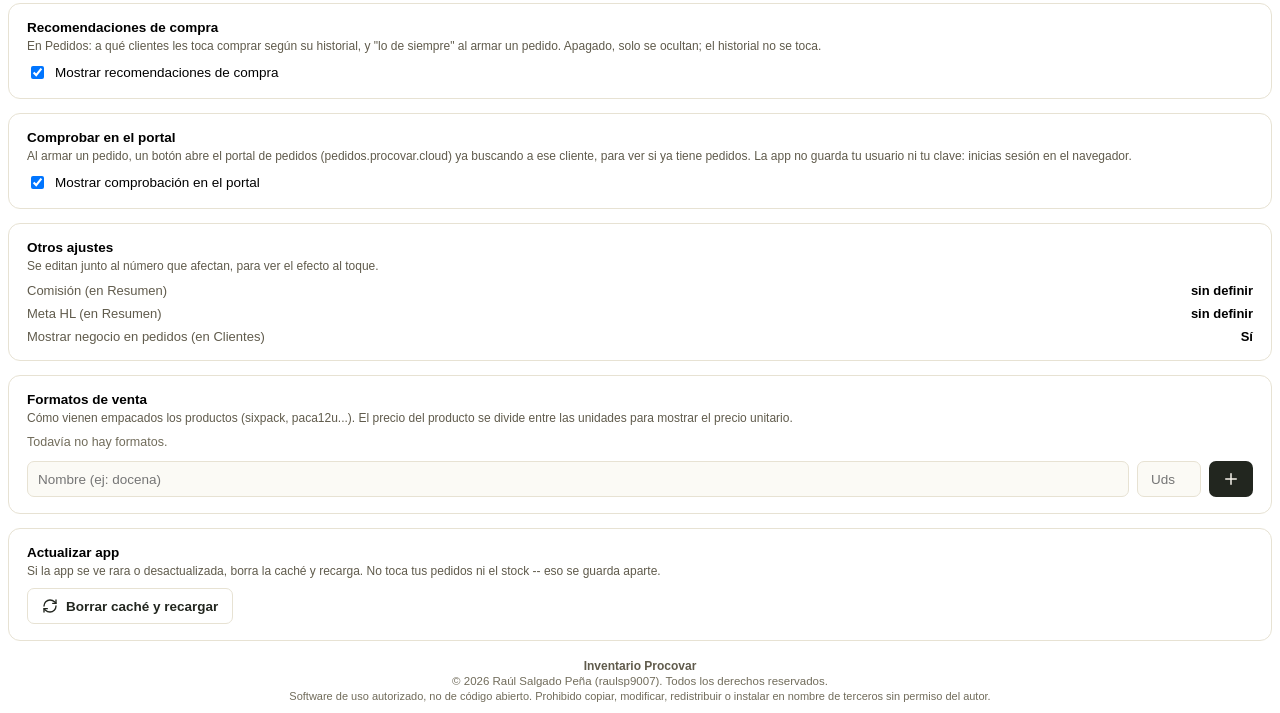
Test: Settings -- Borrar caché y recargar › el aviso de sin conexión desaparece si se reintenta ya con internet
(page scrolled)
Click the button "Borrar caché y recargar": (130, 606) [27,588,233,624]
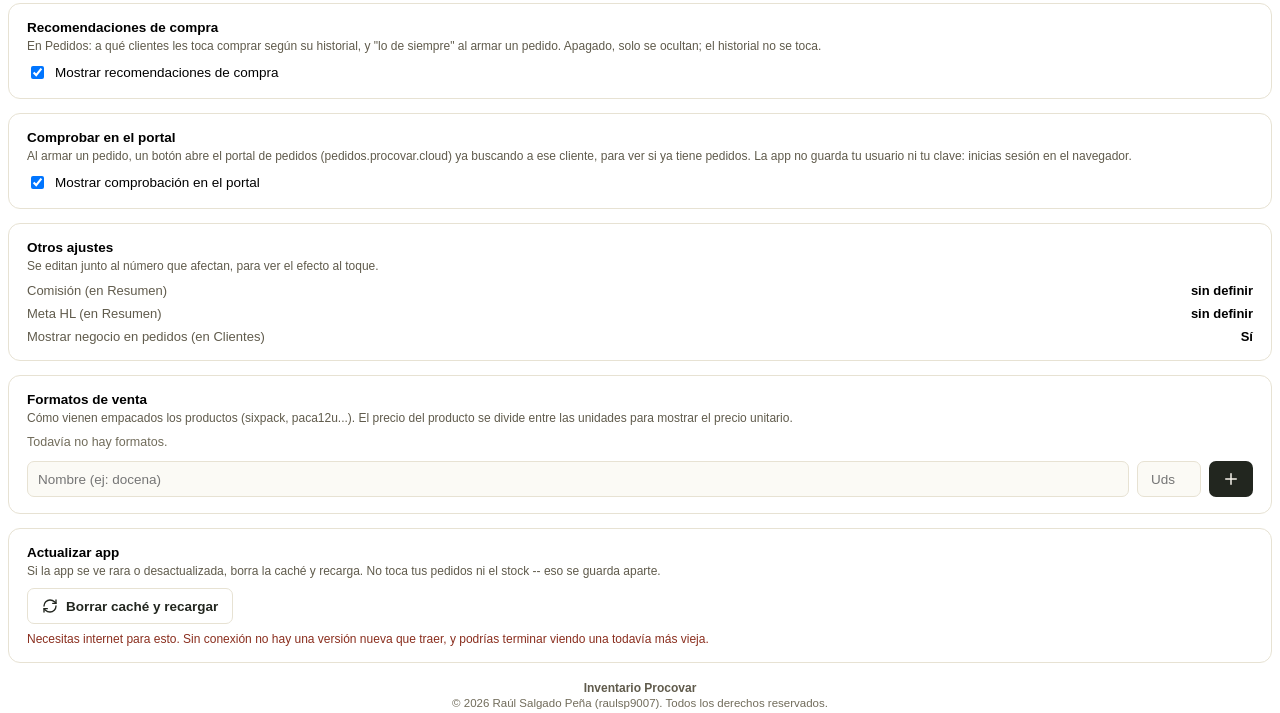
Result: the text "Necesitas internet" is shown at [27,632,709,646]
Click the button "Borrar caché y recargar": (130, 606) [27,588,233,624]
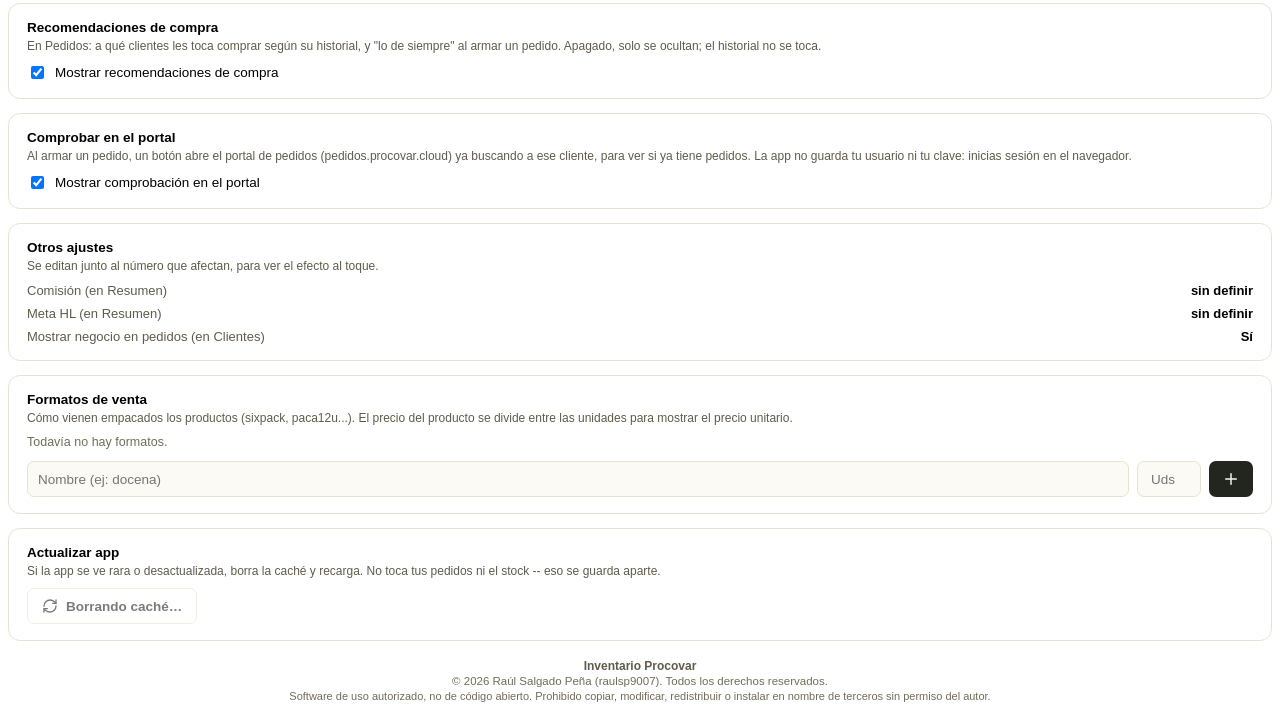
Result: the text "Necesitas internet" is gone
